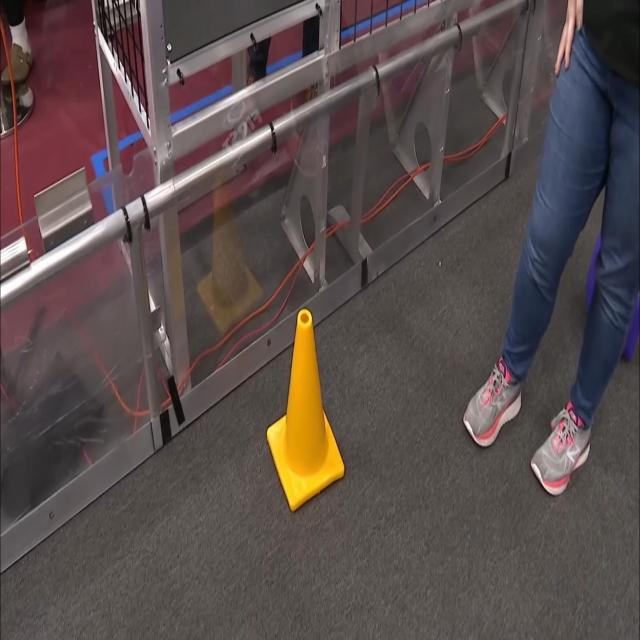frc_cone: (264, 308, 342, 510)
